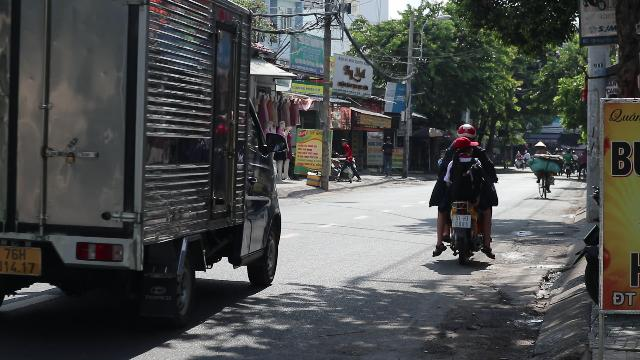helmet: (455, 123, 477, 139)
licenseplate: (452, 215, 470, 227)
motorcyclist: (428, 122, 500, 264)
nohelmet: (452, 137, 478, 157)
